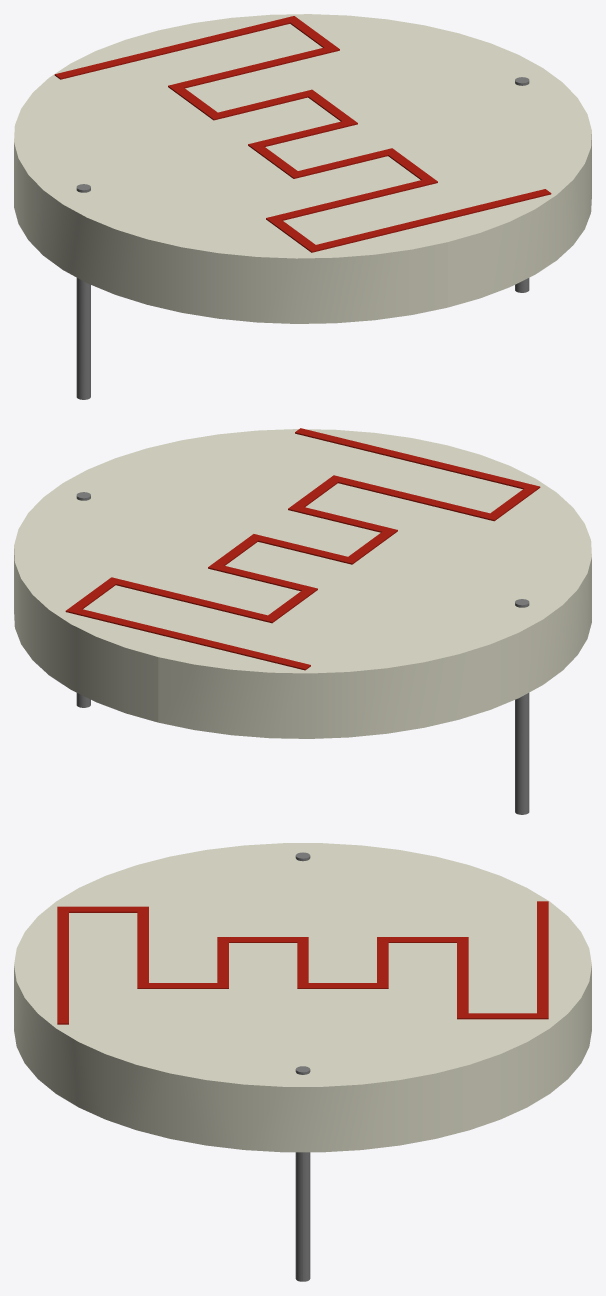
Rendered from kc-r_ldr_d20mm_p17.5mm_vertical.glb.
The picture shows the model from 3 angles, top to bottom: view 1: azimuth 30°, elevation 25°; view 2: azimuth 150°, elevation 25°; view 3: azimuth 270°, elevation 25°; orthographic projection.
Visible parts, largest first — view 1: 0.75_0.75_0.6666666666666666_0, 0.4166666666666667_0_0_0, 0.25_0.25_0.25_0; view 2: 0.75_0.75_0.6666666666666666_0, 0.4166666666666667_0_0_0, 0.25_0.25_0.25_0; view 3: 0.75_0.75_0.6666666666666666_0, 0.4166666666666667_0_0_0, 0.25_0.25_0.25_0.
Boxes of the visible parts, x1,y1,x2,y2 form: 0.75_0.75_0.6666666666666666_0: (14, 14, 591, 323); 0.4166666666666667_0_0_0: (54, 16, 551, 252); 0.25_0.25_0.25_0: (76, 77, 529, 399); 0.75_0.75_0.6666666666666666_0: (14, 429, 591, 738); 0.4166666666666667_0_0_0: (65, 428, 540, 670); 0.25_0.25_0.25_0: (76, 492, 529, 814); 0.75_0.75_0.6666666666666666_0: (14, 843, 591, 1152); 0.4166666666666667_0_0_0: (57, 901, 548, 1024); 0.25_0.25_0.25_0: (295, 852, 310, 1281).
Size of the model in its own units: 2 by 0.7999 by 2.
